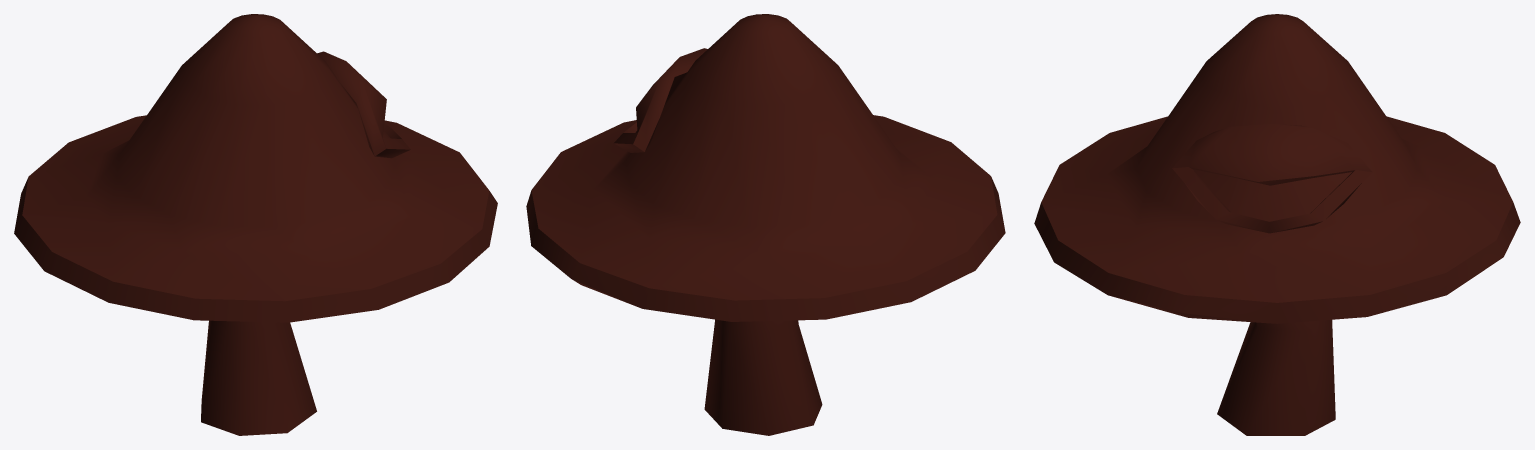
Rendered from grzyb_2.2.obj.
3 renders of one model, left to right at view 1: azimuth 30°, elevation 25°; view 2: azimuth 150°, elevation 25°; view 3: azimuth 270°, elevation 25°, orthographic.
Parts seen in each view (by area): view 1: Circle.002; view 2: Circle.002; view 3: Circle.002.
Boxes of the visible parts, box(x1,y1,x2,y2) form: Circle.002: box(14, 14, 497, 435); Circle.002: box(526, 14, 1005, 435); Circle.002: box(1034, 14, 1520, 435).
Size of the model in its own units: 2.85 by 2.56 by 2.85.
